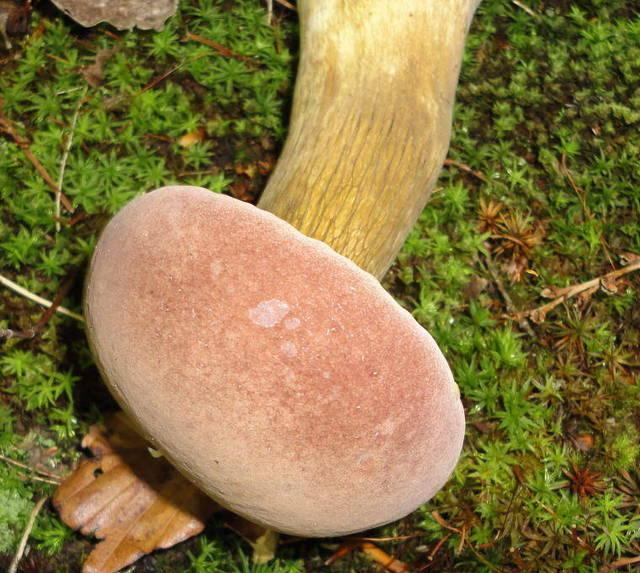Non-edible Mushroom: (80, 182, 467, 540)
